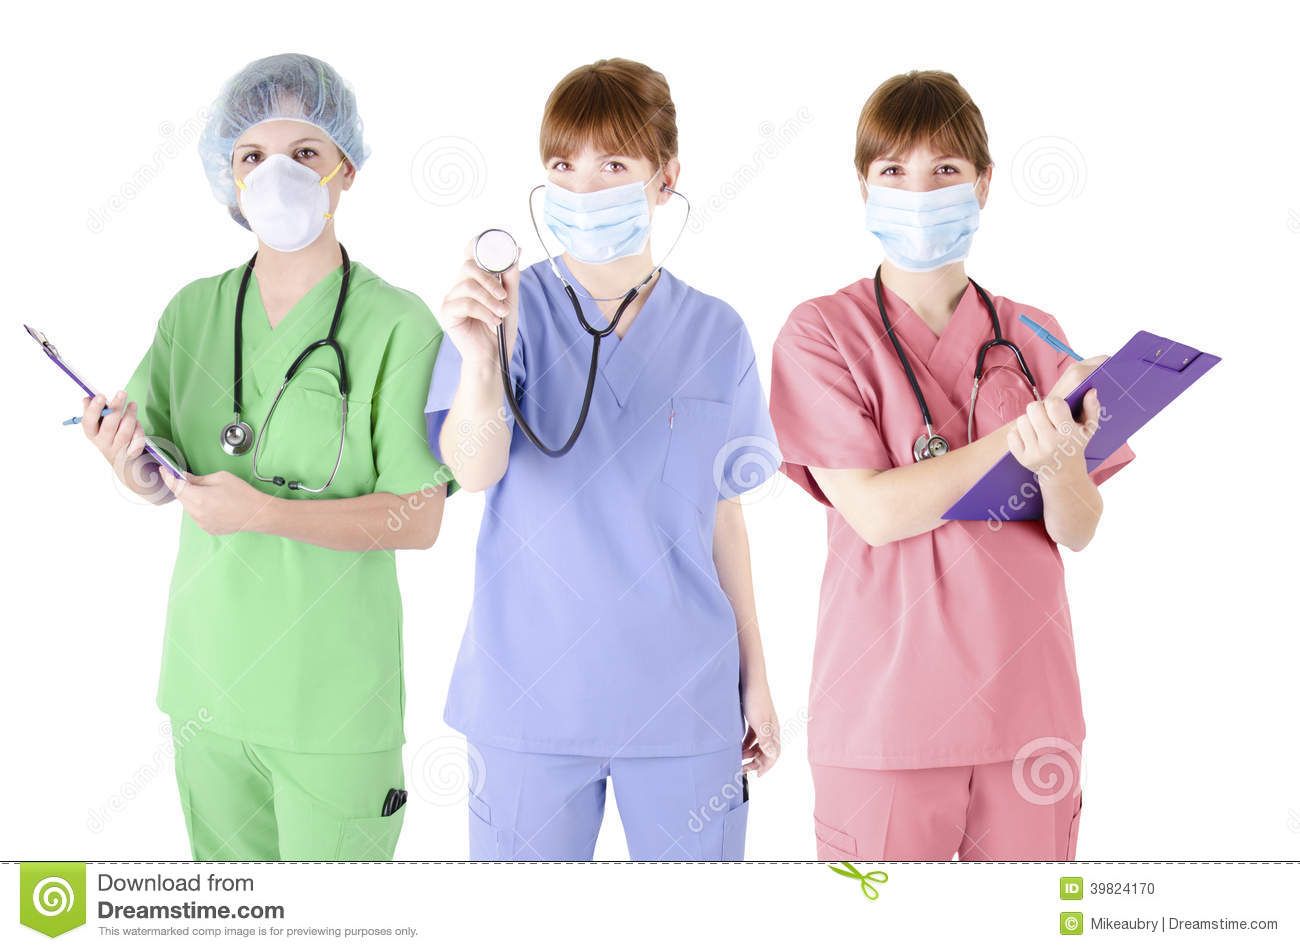mask: (866, 173, 1015, 261), (541, 183, 666, 258), (247, 166, 337, 254)
